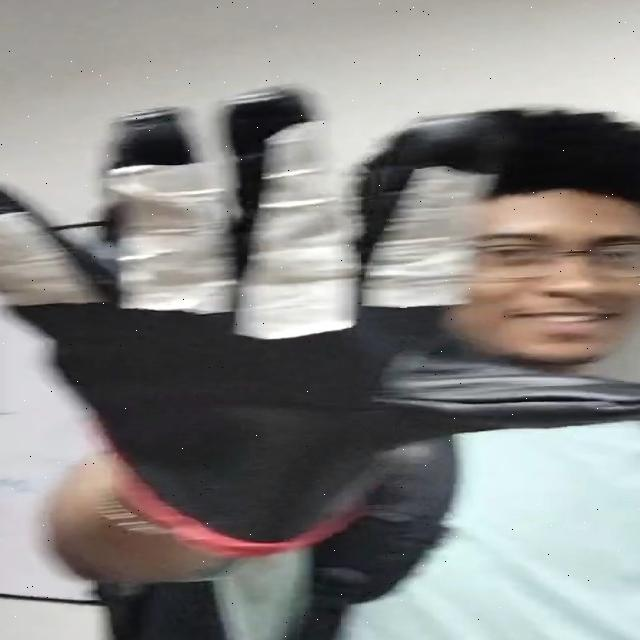Gloves: (0, 95, 640, 535)
